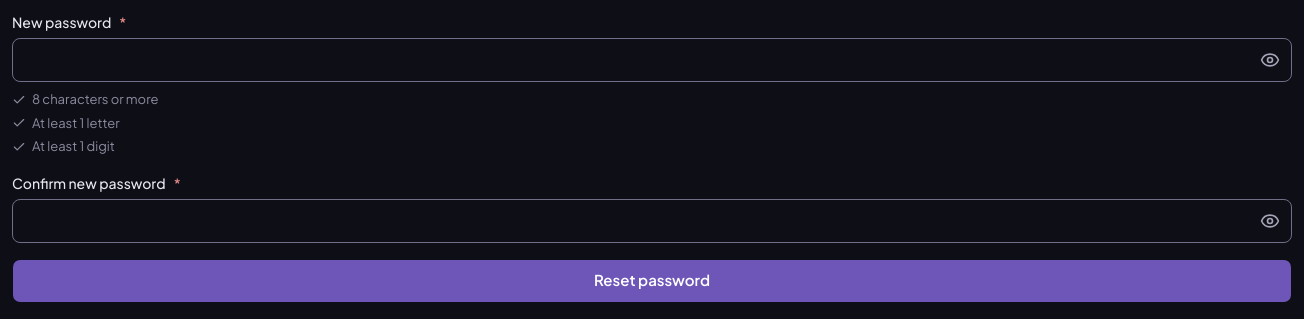
an invalid, expired or used link replaces the form with a link to request a new one
Type "Journey2027" into the password field labelled "New password *" at (652, 60), box left=12, top=38, right=1292, bottom=82
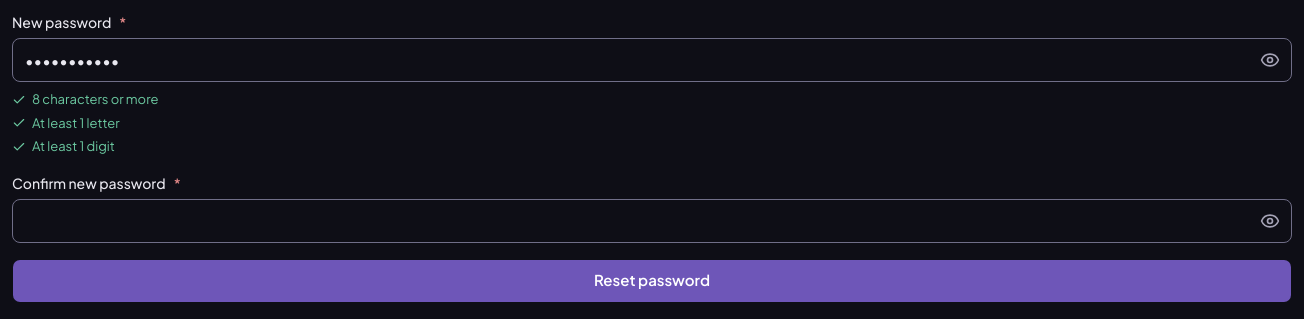
Type "Journey2027" into the password field labelled "Confirm new password *" at (652, 220), box left=12, top=198, right=1292, bottom=242
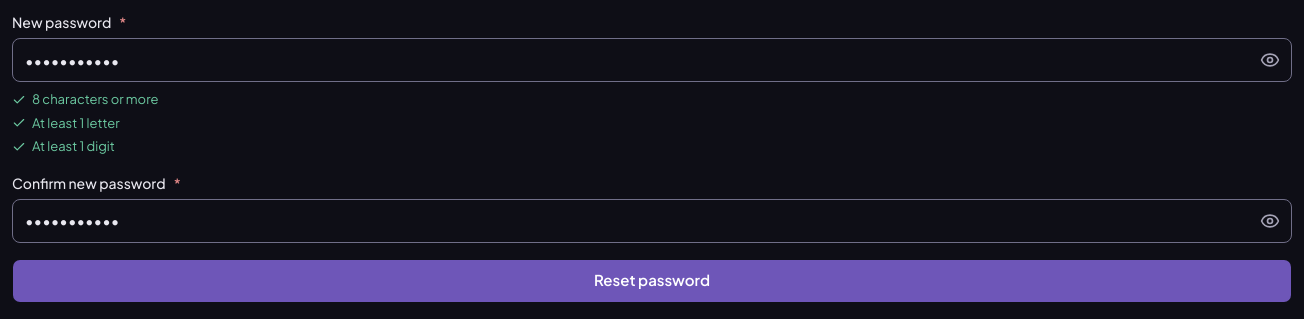
Click the button "Reset password" at (652, 280), box left=12, top=258, right=1292, bottom=302
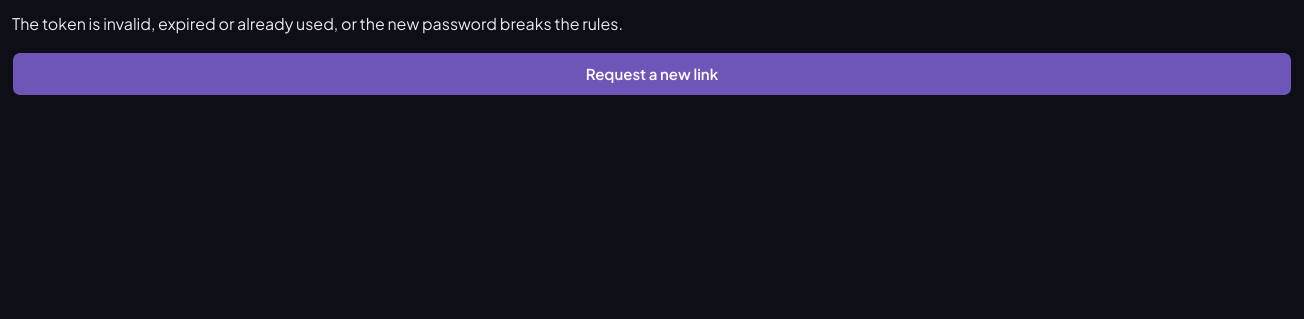
Now the text "invalid, expired or already used" is shown, box left=12, top=13, right=623, bottom=34
Now the button "Reset password" is gone
